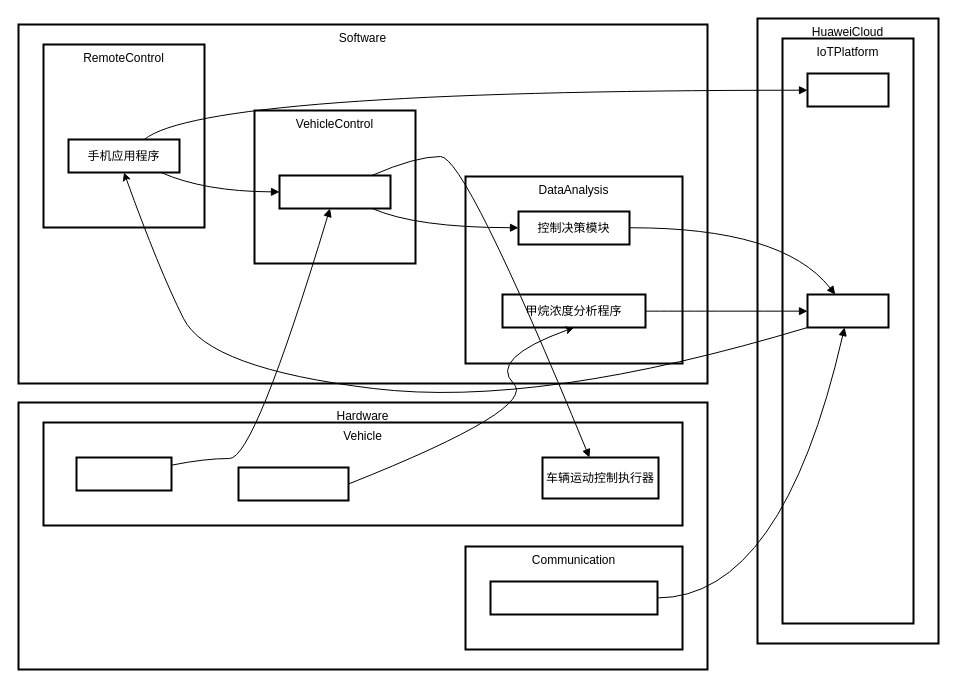
The diagram is 956 pixels wide and 687 high, and some of its shapes have lost their labels. Each missing label, with the centre of its shape:
"Air820UG NB-IoT模组" goes at (573,597).
"数据分析" goes at (847,89).
"数据存储" goes at (847,310).
"甲烷浓度传感器" goes at (293,483).
"自动驾驶相关传感器模块" goes at (123,473).
"车辆控制程序" goes at (334,191).
